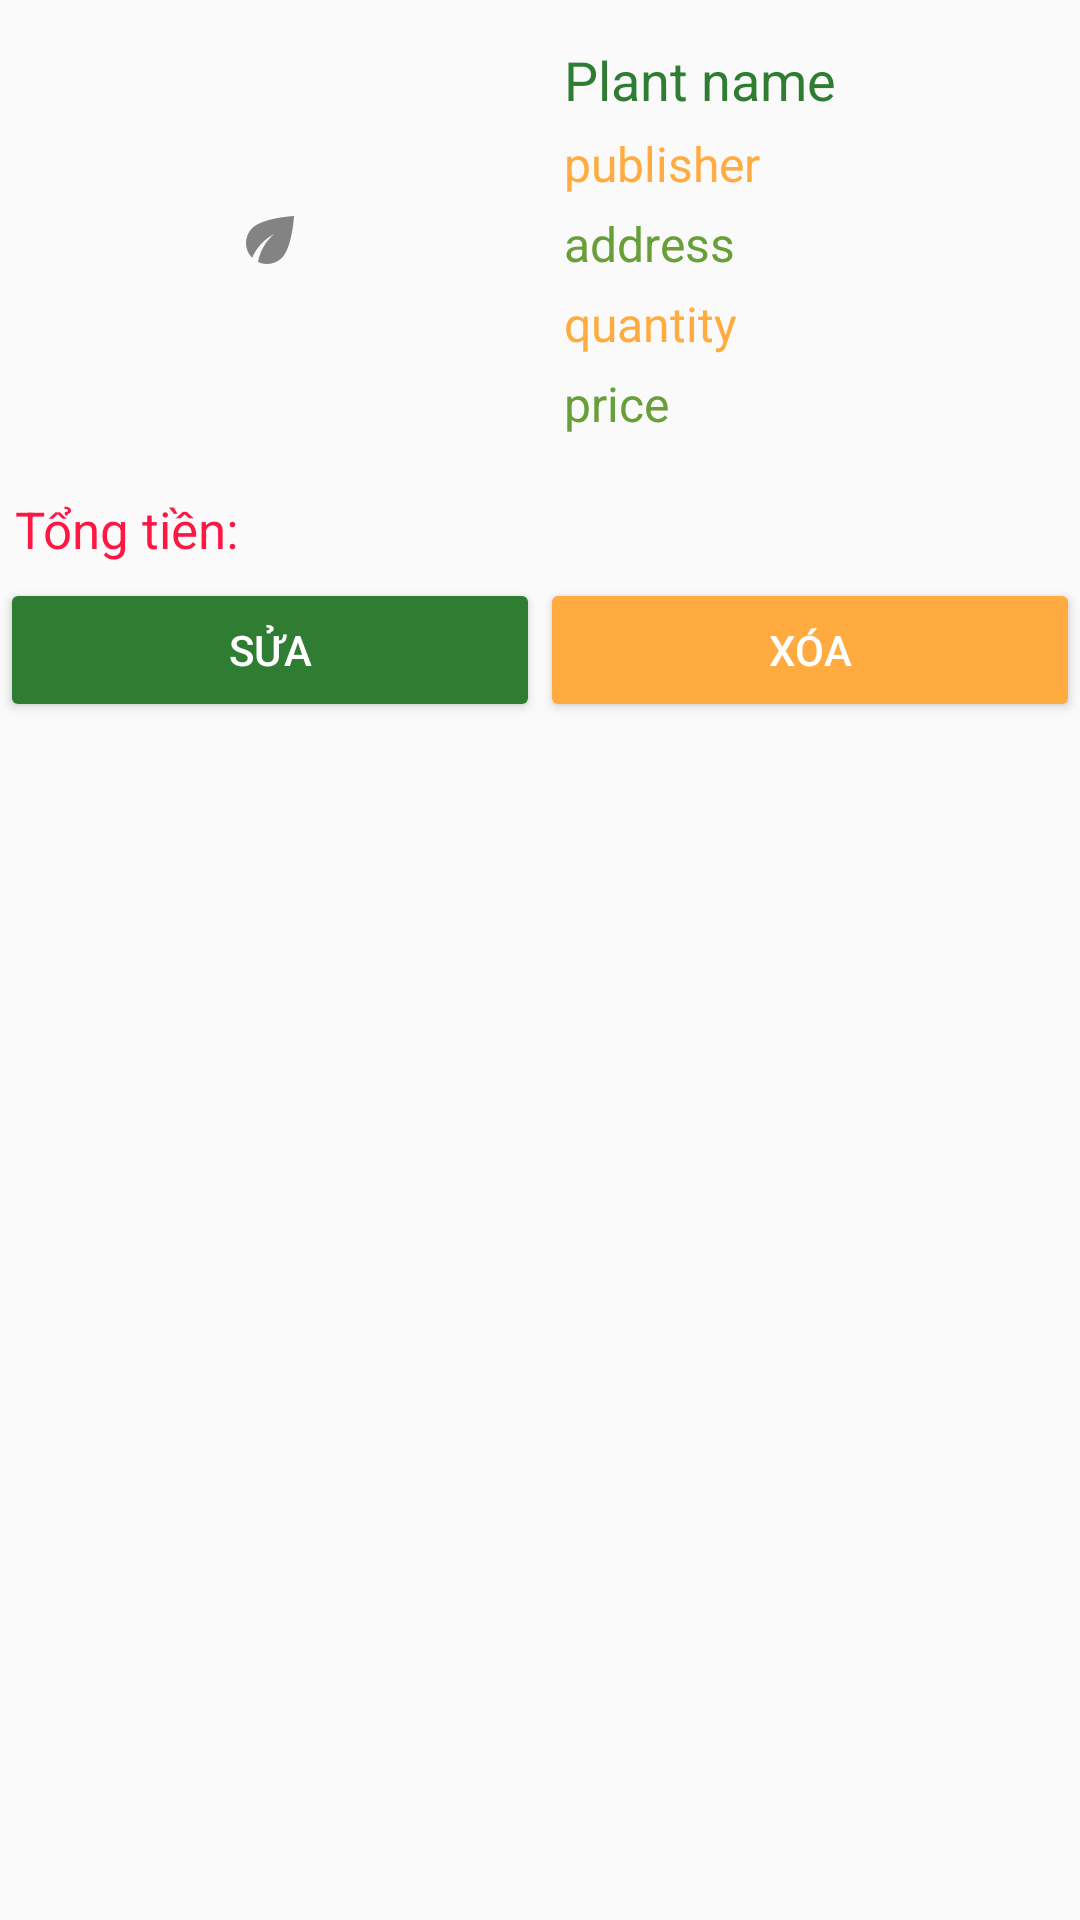

Screen size 1080 × 1920. Icon name, then its box in pixels as (x1, y1, x2, y2):
leaf: (246, 216, 294, 264)
